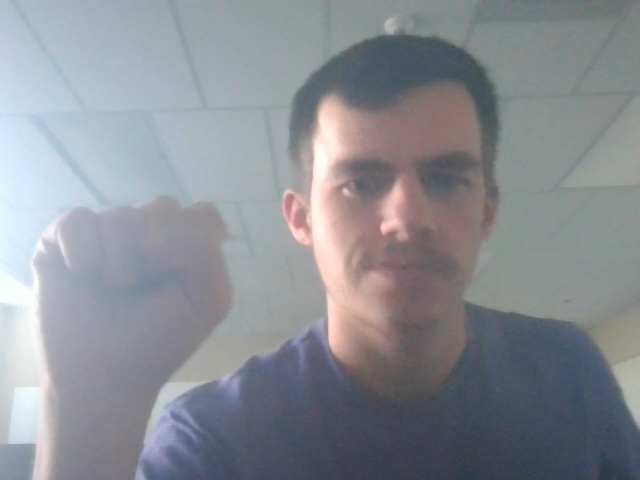yes: (27, 191, 247, 385)
